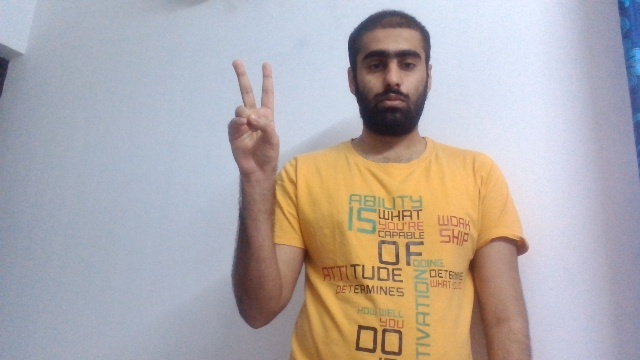scissors: (226, 58, 280, 179)
